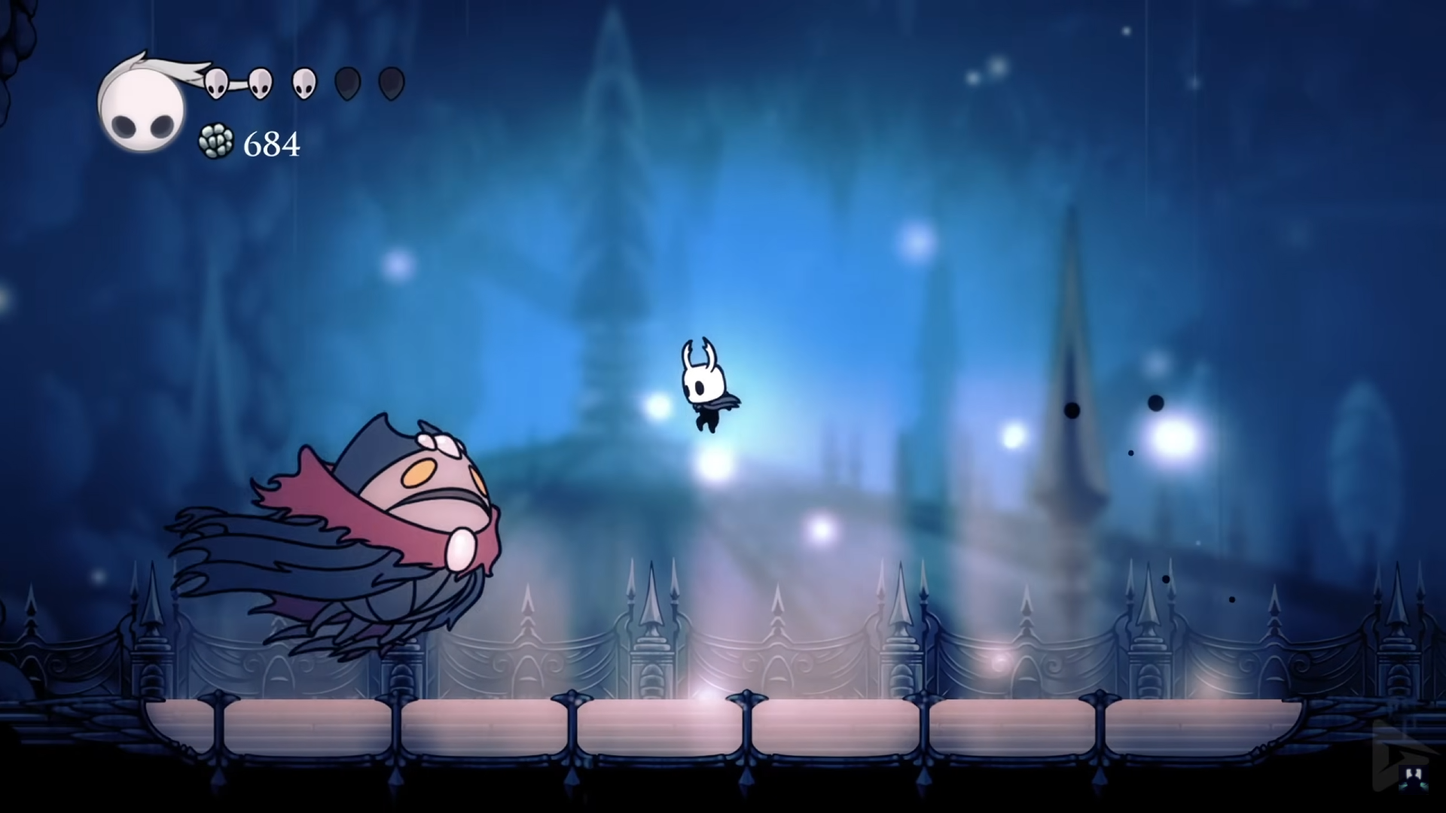HK: (675, 333, 740, 438)
